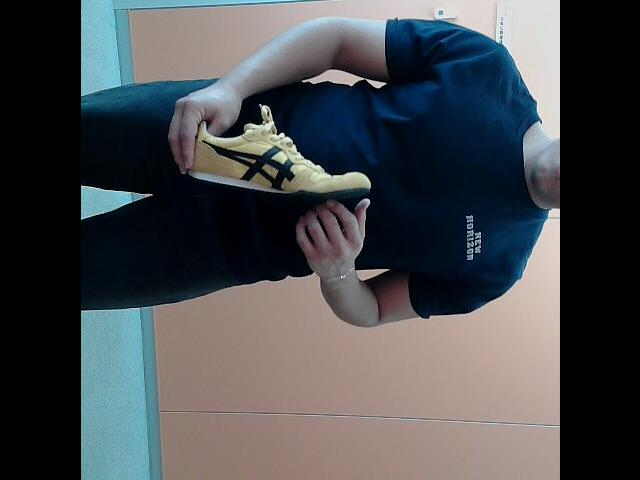Shoes: (184, 115, 370, 203)
